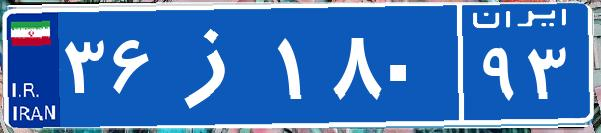0: (385, 28, 445, 110)
1: (273, 28, 330, 110)
3: (57, 26, 110, 107), (525, 38, 570, 115)
6: (110, 28, 158, 105)
8: (330, 28, 385, 110)
9: (475, 38, 525, 113)
ز: (158, 15, 273, 115)
